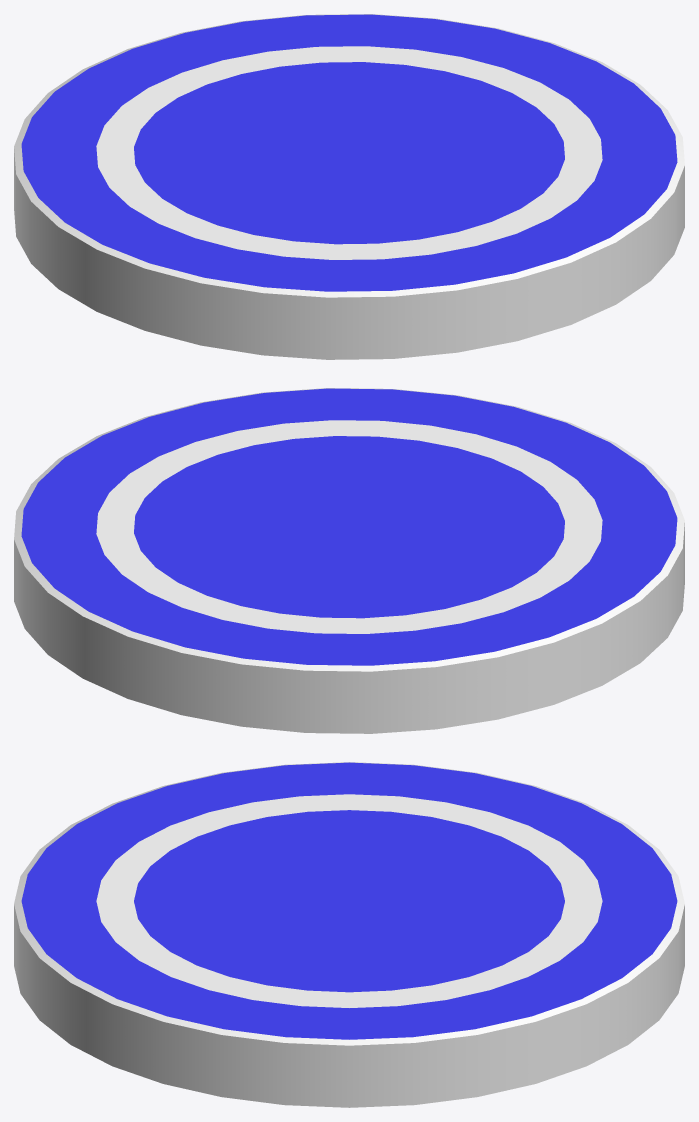
Rendered from o_mark.fbx.
The picture shows the model from 3 angles, top to bottom: view 1: azimuth 30°, elevation 25°; view 2: azimuth 150°, elevation 25°; view 3: azimuth 270°, elevation 25°; orthographic projection.
Visible parts, largest first — view 1: O-mark; view 2: O-mark; view 3: O-mark.
Part boxes in pixels (x1=…): O-mark: x1=14, y1=14, x2=684, y2=359; O-mark: x1=14, y1=388, x2=684, y2=733; O-mark: x1=14, y1=762, x2=684, y2=1107.
Size of the model in its own units: 90 by 10 by 90.
